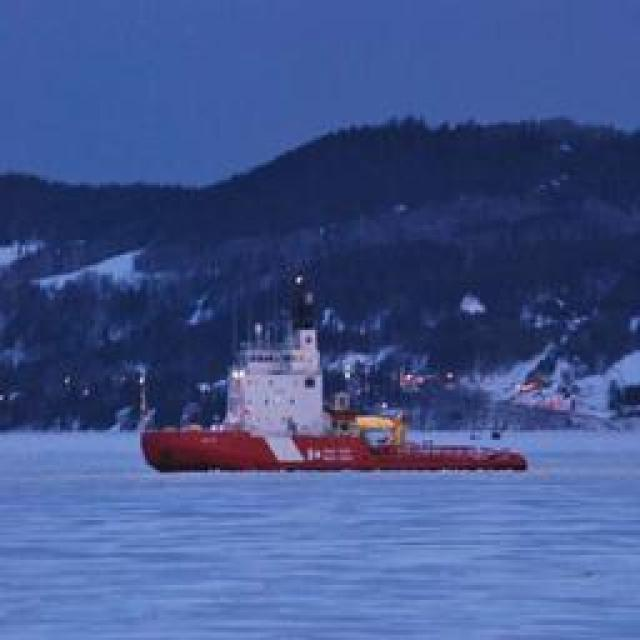CIV_Ship: (140, 422, 540, 476)
